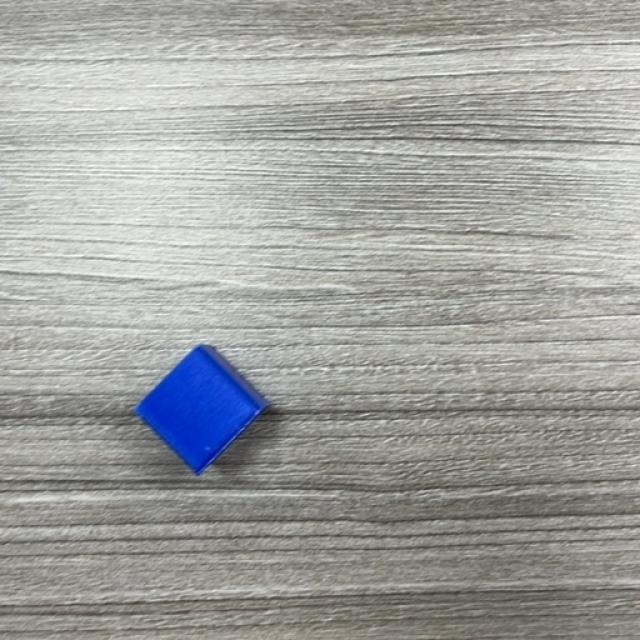Azul: (134, 345, 271, 476)
